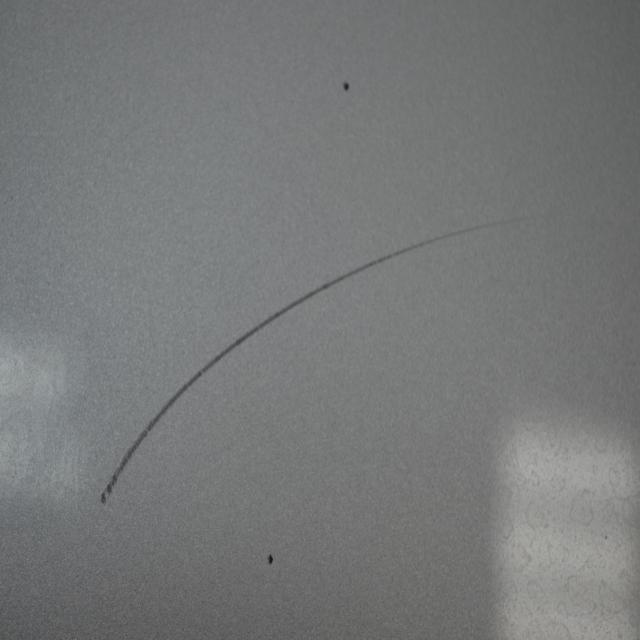dirt: (342, 77, 351, 93), (267, 551, 274, 567)
scratch: (95, 206, 551, 512)
